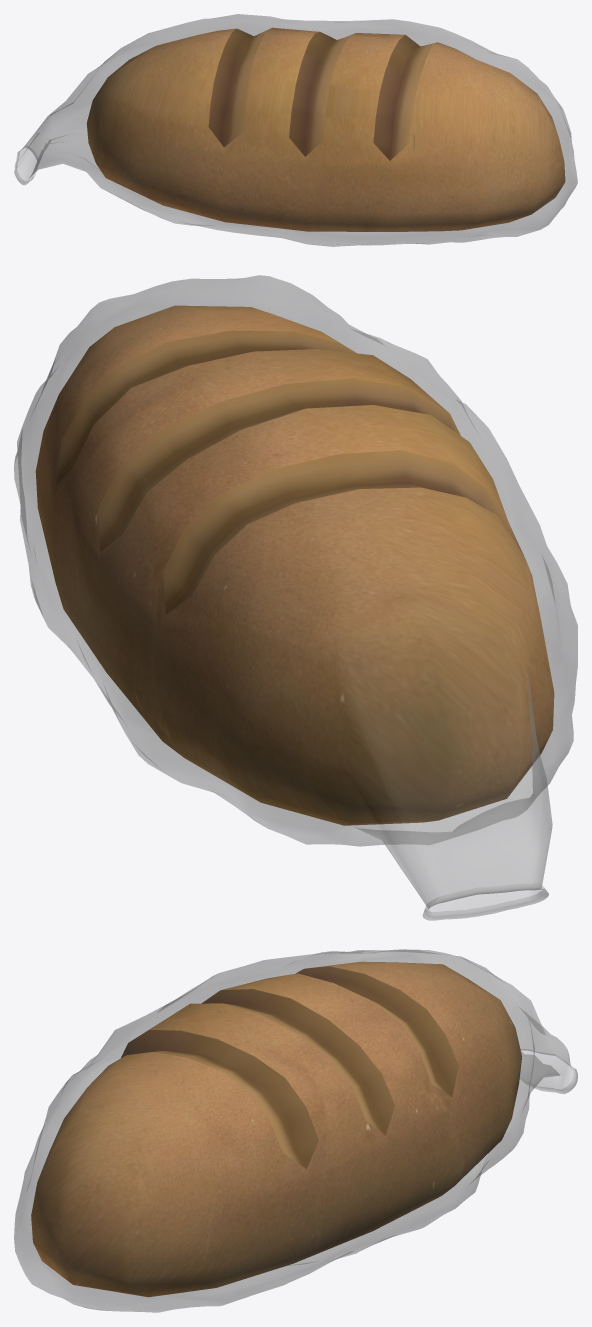
The model's file is bread_packaged.glb.
3 views of the same model, one above another, from view 1: azimuth 30°, elevation 25°; view 2: azimuth 150°, elevation 25°; view 3: azimuth 270°, elevation 25° (orthographic). The views are drawn at different scales.
Parts seen in each view (by area): view 1: BreadPackaged; view 2: BreadPackaged; view 3: BreadPackaged.
Part boxes in pixels (<box>): BreadPackaged: <box>14,14,577,246</box>; BreadPackaged: <box>14,275,577,920</box>; BreadPackaged: <box>14,949,577,1312</box>.
Size of the model in its own units: 0.247 by 0.1077 by 0.2221.
2 materials, 1 textured.
